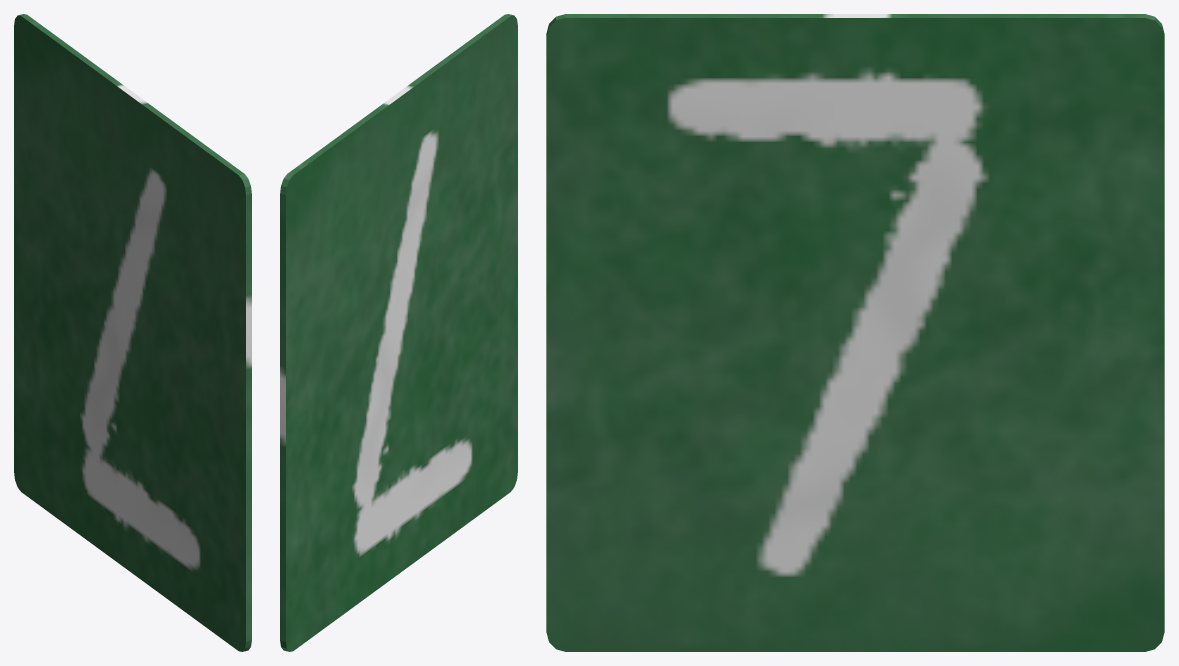
File: DecalNumberSeven.fbx
The picture shows the model from 3 angles, left to right: view 1: azimuth 30°, elevation 25°; view 2: azimuth 150°, elevation 25°; view 3: azimuth 270°, elevation 25°; orthographic projection. The views are drawn at different scales.
Parts seen in each view (by area): view 1: DecalNumberSeven; view 2: DecalNumberSeven; view 3: DecalNumberSeven.
Part boxes in pixels (x1,y1,x2,y2): DecalNumberSeven: (14, 14, 251, 651); DecalNumberSeven: (280, 14, 517, 651); DecalNumberSeven: (546, 14, 1164, 651).
Size of the model in its own units: 5.01e-05 by 0.00385 by 0.0034.
